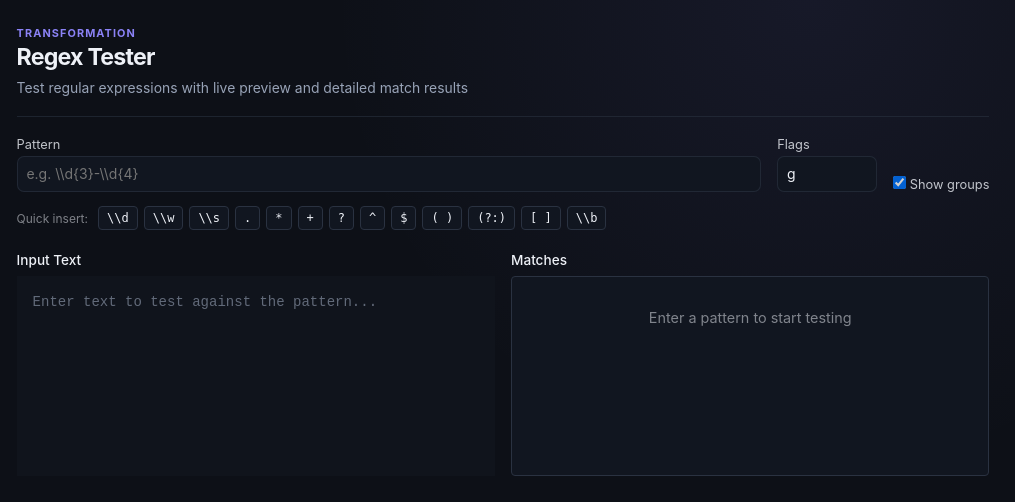
Test case: RegexTesterPage › finds every match when the user omits the global flag
The width and height of the screenshot is (1015, 502).
Type "foo" into the field with id "regex-pattern" at (389, 174), box [17,156,761,192]
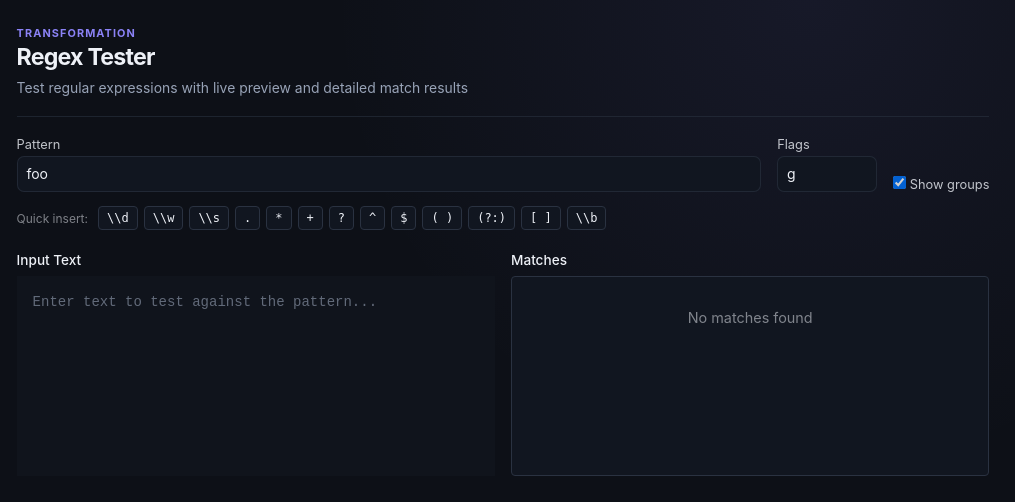
Replace the text in the field with id "regex-flags" with "i" at (827, 174), box [777,156,877,192]
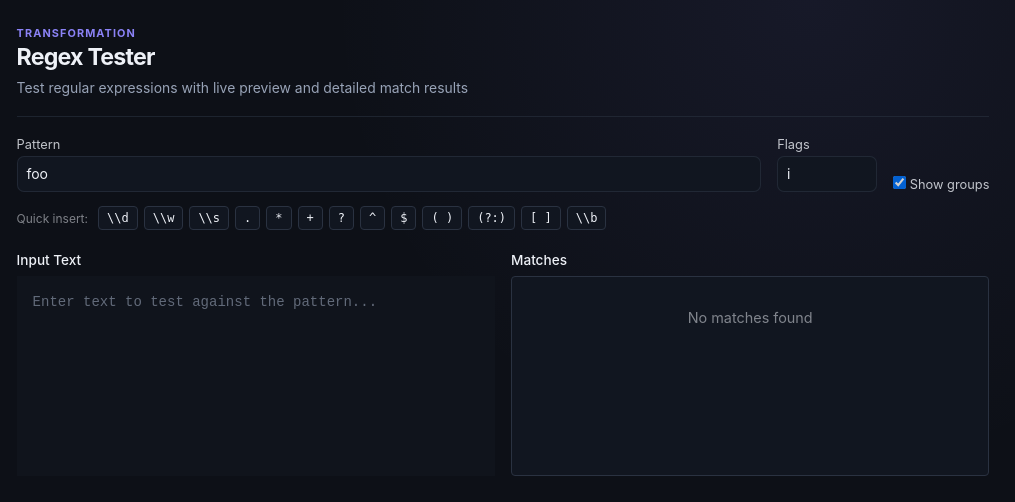
Type "Foo foo" into the text box with placeholder "Enter text to test against the pattern..." at (256, 376), box [17,276,495,476]
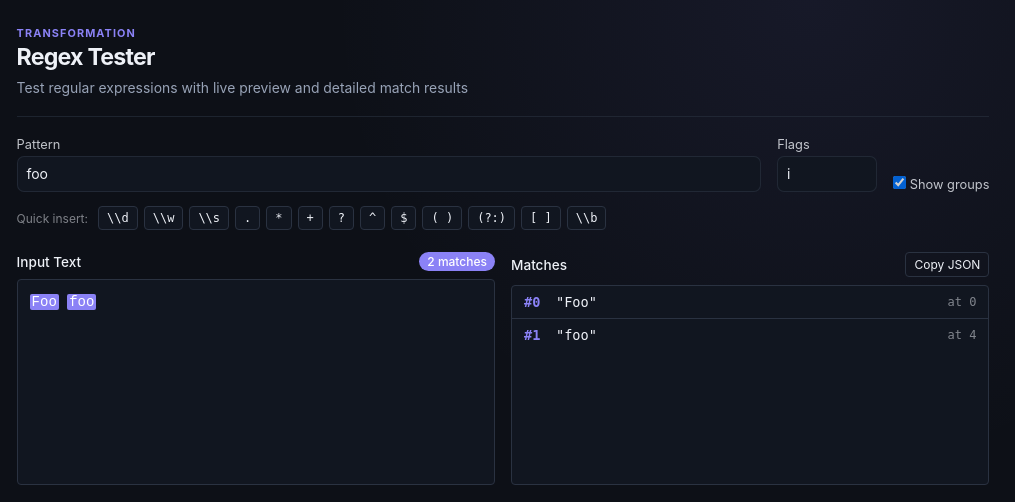
Check: the text "2 matches" is shown, box [419,252,495,271]
